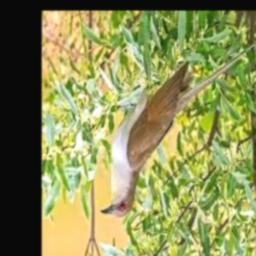Cuckoo: (100, 44, 253, 218)
